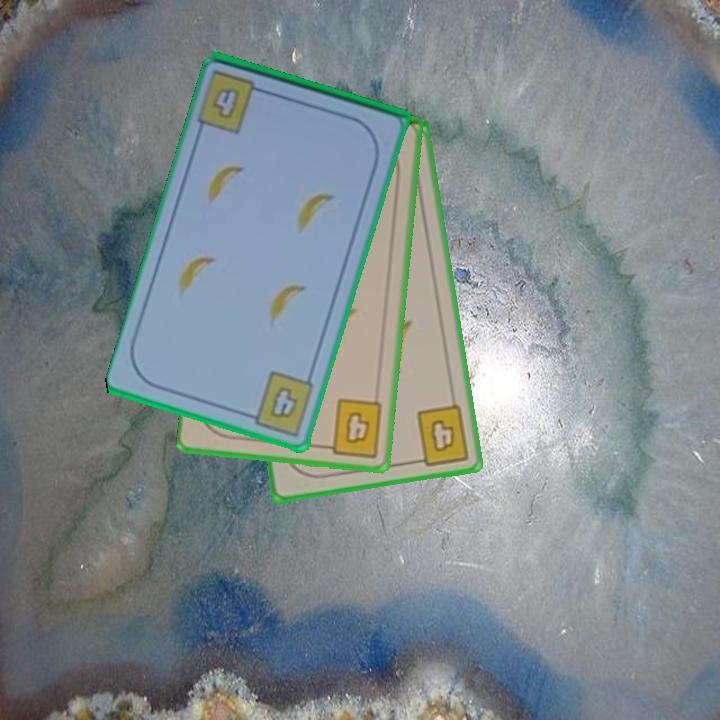4b: (242, 367, 317, 439), (318, 395, 386, 460), (409, 401, 473, 468), (209, 84, 244, 123)
